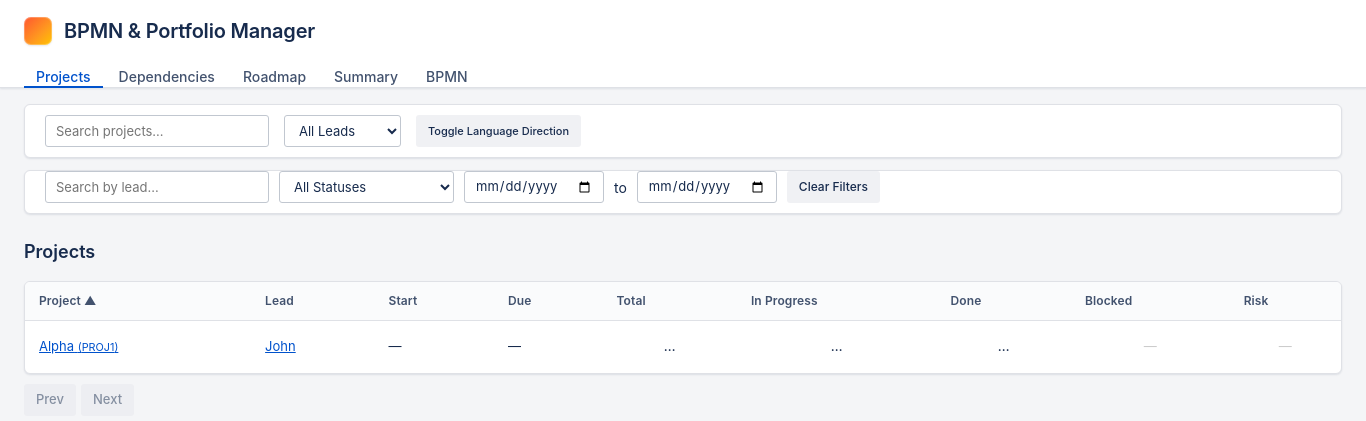
Scenario: App › Roadmap tab › loads roadmap when tab is clicked
The image size is (1366, 421).
Expected: the button "Alpha (PROJ1)" is shown, [39,331,118,363]
Click the tab "Roadmap" at [274, 72], box [231,56,318,88]
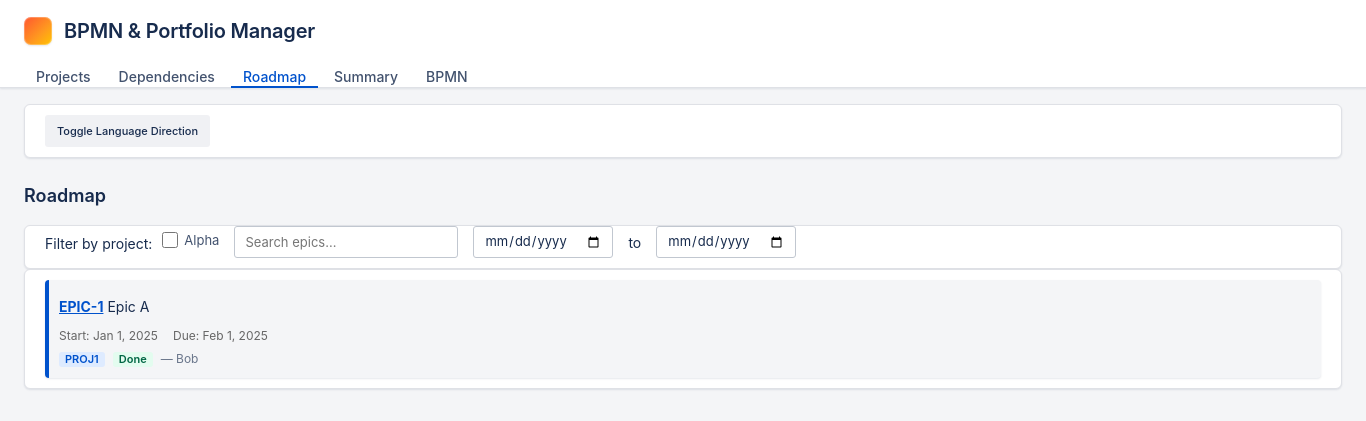
Result: the text "Epic A" is shown at [107,298,149,314]
Result: the text "Start: Jan 1, 2025" is shown at [59,328,158,343]
Result: the text "Due: Feb 1, 2025" is shown at [173,328,268,343]
